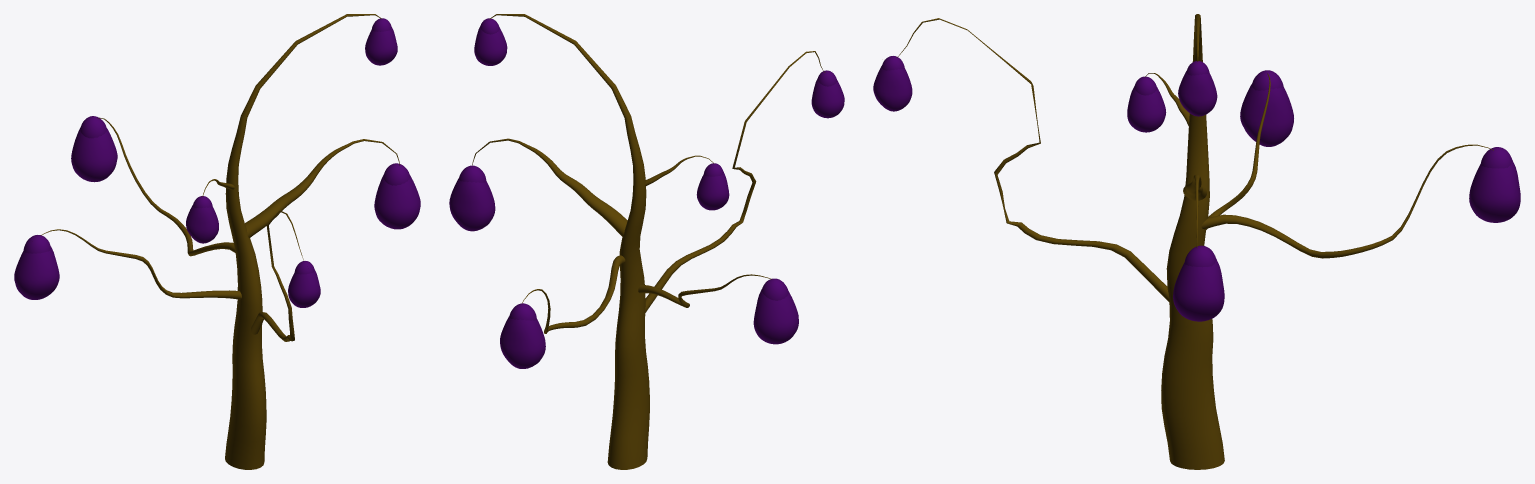
Rendered from Plant 2 Stage 2.fbx.
The picture shows the model from 3 angles, left to right: view 1: azimuth 30°, elevation 25°; view 2: azimuth 150°, elevation 25°; view 3: azimuth 270°, elevation 25°; orthographic projection. The views are drawn at different scales.
Parts seen in each view (by area): view 1: pCone1, pasted__pSphere2 (×3), pasted__pasted__pSphere2, pasted__pasted__pasted__pSphere2, pasted__pCone1, pSphere2, pCone4, pCone3, pCone2; view 2: pCone1, pasted__pSphere2 (×3), pasted__pasted__pasted__pSphere2, pasted__pasted__pSphere2, pCone3, pasted__pCone1, pSphere2, pCone2, pCone4; view 3: pCone1, pasted__pSphere2 (×3), pasted__pasted__pSphere2, pasted__pasted__pasted__pSphere2, pCone3, pCone2, pSphere2, pCone4.
Part boxes in pixels (bbox=[...]): pCone1: bbox=[225, 14, 381, 469]; pasted__pSphere2 (×3): bbox=[186, 163, 420, 307]; pasted__pasted__pSphere2: bbox=[71, 116, 117, 182]; pasted__pasted__pasted__pSphere2: bbox=[14, 235, 59, 299]; pasted__pCone1: bbox=[245, 139, 400, 237]; pSphere2: bbox=[365, 18, 397, 65]; pCone4: bbox=[41, 229, 241, 299]; pCone3: bbox=[251, 210, 303, 341]; pCone2: bbox=[97, 117, 235, 256]; pCone1: bbox=[489, 14, 649, 469]; pasted__pSphere2 (×3): bbox=[449, 70, 844, 231]; pasted__pasted__pasted__pSphere2: bbox=[753, 278, 798, 344]; pasted__pasted__pSphere2: bbox=[500, 303, 545, 368]; pCone3: bbox=[645, 51, 825, 312]; pasted__pCone1: bbox=[472, 138, 627, 236]; pSphere2: bbox=[474, 18, 507, 65]; pCone2: bbox=[522, 255, 625, 333]; pCone4: bbox=[638, 274, 771, 307]; pCone1: bbox=[1161, 14, 1224, 469]; pasted__pSphere2 (×3): bbox=[873, 56, 1224, 321]; pasted__pasted__pSphere2: bbox=[1469, 147, 1520, 222]; pasted__pasted__pasted__pSphere2: bbox=[1240, 70, 1293, 146]; pCone3: bbox=[896, 18, 1169, 302]; pCone2: bbox=[1201, 144, 1493, 258]; pSphere2: bbox=[1178, 61, 1217, 116]; pCone4: bbox=[1206, 73, 1270, 229].
Size of the model in its own units: 9.3 by 10.07 by 11.98.
